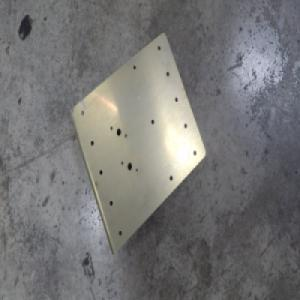MetalSheet: (67, 30, 206, 256)
